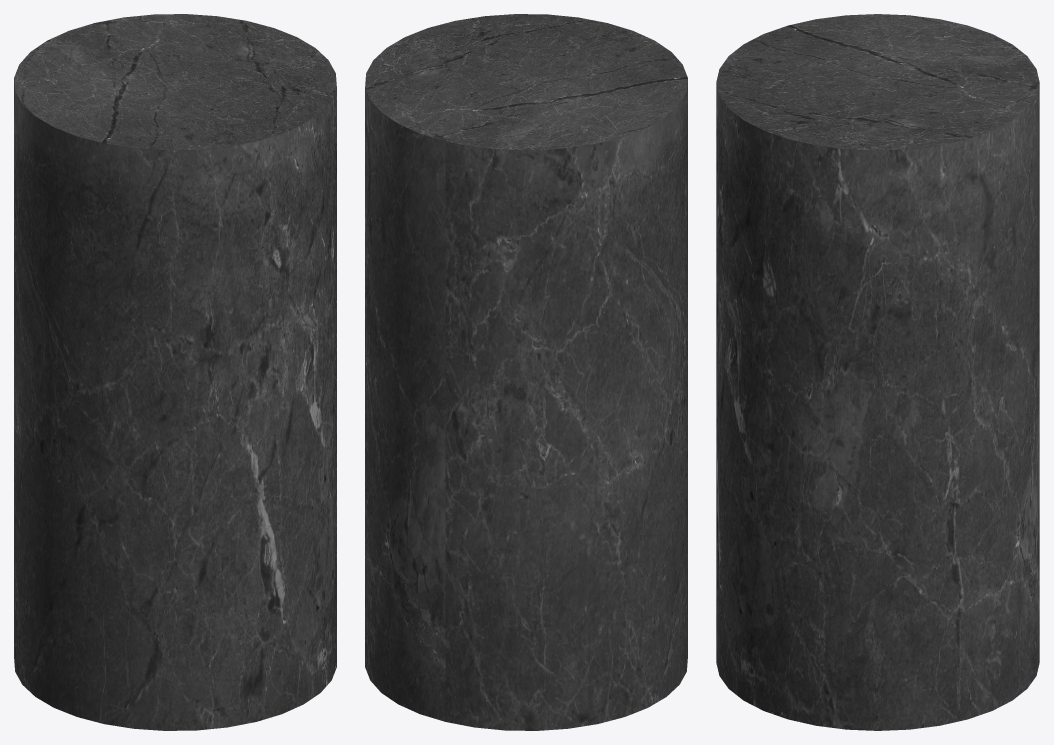
Rendered from centerCylinder.glb.
3 renders of one model, left to right at view 1: azimuth 30°, elevation 25°; view 2: azimuth 150°, elevation 25°; view 3: azimuth 270°, elevation 25°, orthographic.
Parts seen in each view (by area): view 1: Cylinder; view 2: Cylinder; view 3: Cylinder.
Boxes of the visible parts, x1,y1,x2,y2 form: Cylinder: (14, 14, 336, 730); Cylinder: (365, 14, 687, 730); Cylinder: (716, 14, 1039, 730).
Size of the model in its own units: 2 by 3.96 by 2.
Materials: 1 (1 with a texture image).
